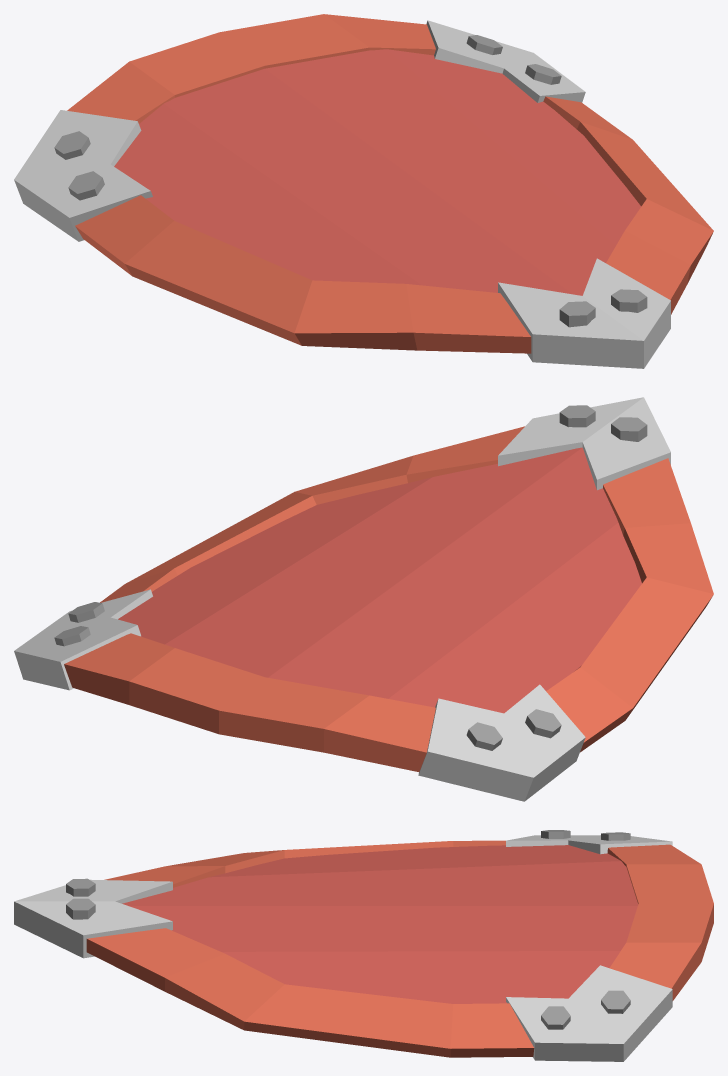
File: Schild.fbx
3 views of the same model, one above another, from view 1: azimuth 30°, elevation 25°; view 2: azimuth 150°, elevation 25°; view 3: azimuth 270°, elevation 25° (orthographic). The views are drawn at different scales.
Parts seen in each view (by area): view 1: Cube; view 2: Cube; view 3: Cube.
Part boxes in pixels (left/top/right/bottom): Cube: left=14, top=14, right=713, bottom=368; Cube: left=14, top=397, right=713, bottom=801; Cube: left=14, top=830, right=713, bottom=1061.
Size of the model in its own units: 117 by 17.71 by 166.
